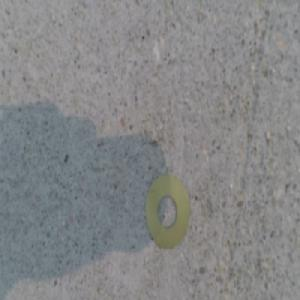Washer: (146, 174, 188, 246)
